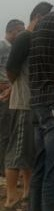boots: (46, 167, 54, 175), (49, 156, 54, 164)
ppe-suit: (37, 51, 54, 170)
